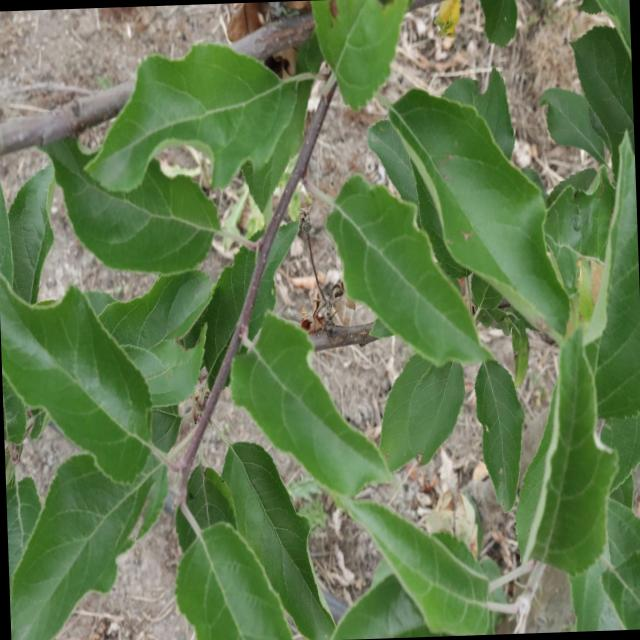-FireBlight-: (299, 302, 340, 331)
